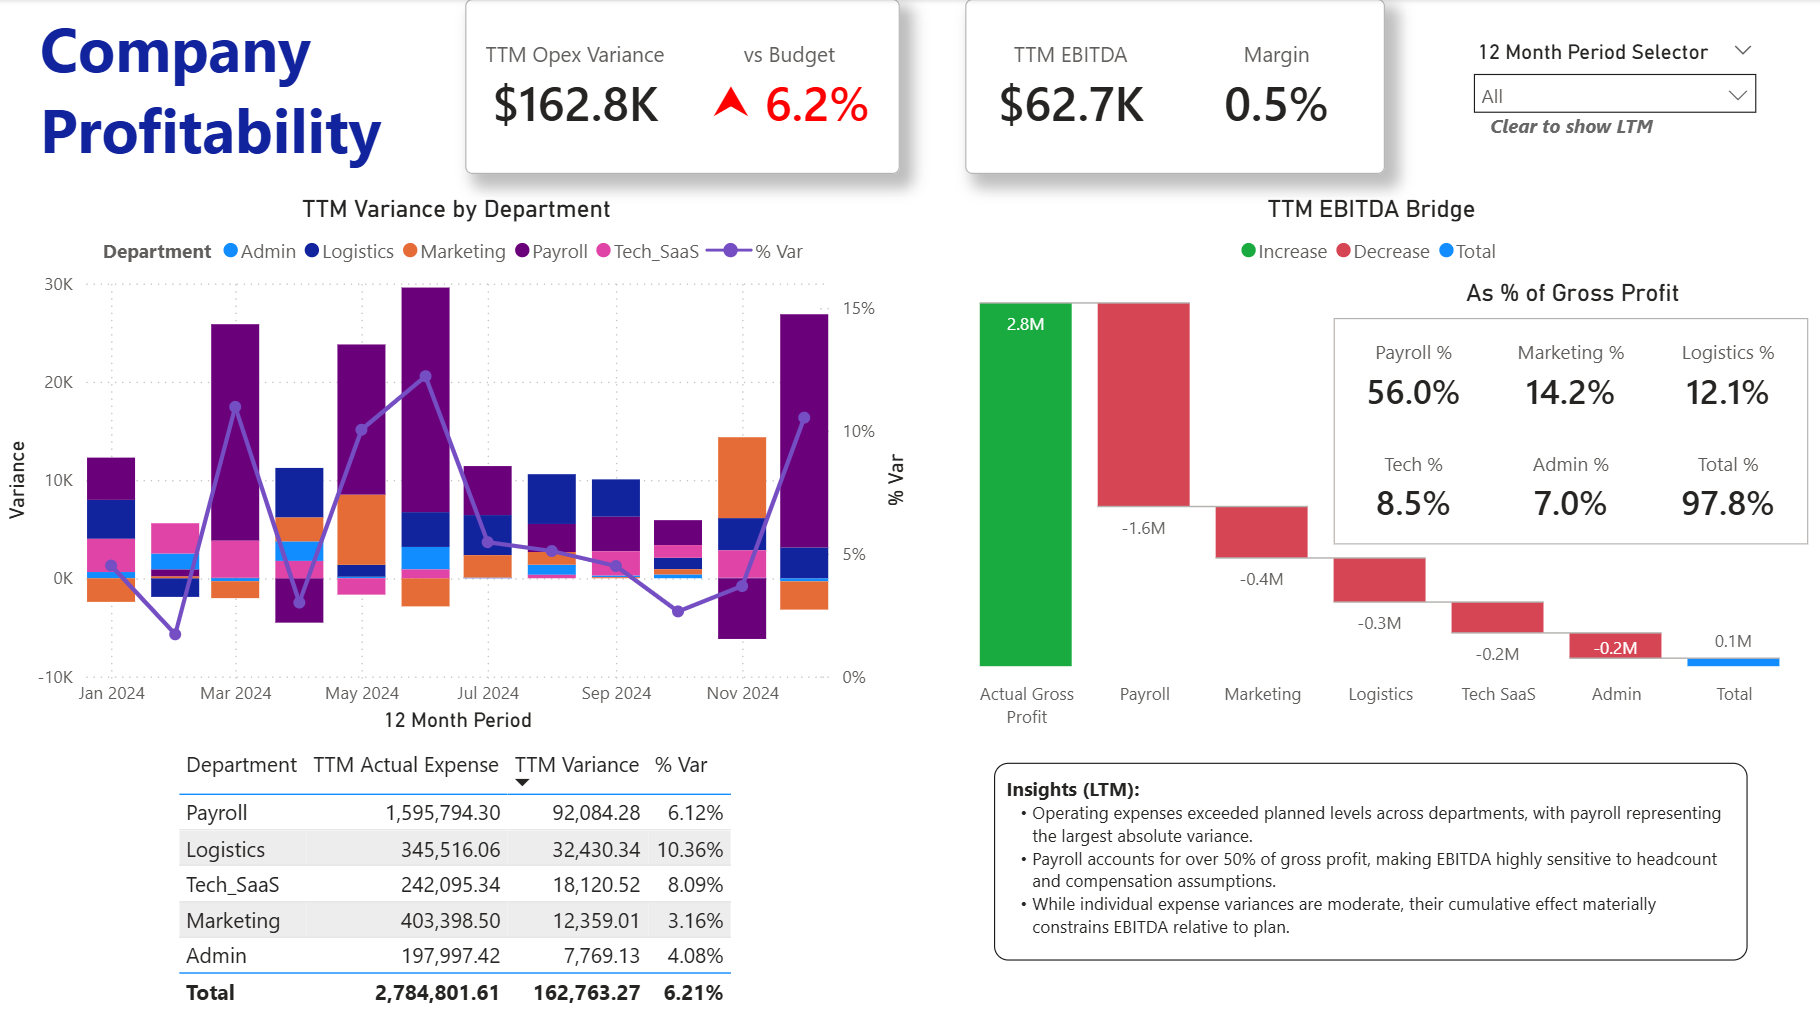

The dashboard page shown, as its layout file describes it:
{"tool":"powerbi","page":{"name":"Profitability","canvas":[1280,720],"ordinal":3},"visuals":[{"type":"textbox","box":[23.6,0,261.5,122.4],"z":0},{"type":"waterfallChart","title":"TTM EBITDA Bridge","fields":{"Category":["EBITDA_Waterfall_Axis.Step"],"Y":["EBITDA_Waterfall_Axis.EBITDA_Waterfall_Value"]},"box":[640.1,136.4,640.1,381.3],"z":1000},{"type":"slicer","fields":{"Values":["public dim_date.date"]},"box":[1021.7,23.8,217.7,77],"z":2000},{"type":"textbox","box":[1031.3,79.7,138.2,25.4],"z":3000},{"type":"cardVisual","fields":{"Data":["public fact_opex.Payroll %","public fact_opex.Marketing %","public fact_opex.Logistics %","public fact_opex.Tech %","public fact_opex.Admin %","public fact_opex.Act_exp %"]},"box":[921.7,206.4,358.5,193.3],"z":4000},{"type":"textbox","box":[696.1,534.3,527.3,138.2],"z":5000},{"type":"lineStackedColumnComboChart","title":"TTM Variance by Department","fields":{"Series":["public fact_opex.department"],"Y2":["public fact_opex.%_var"],"Category":["public fact_opex.date"],"Y":["public fact_opex.Variance TTM"]},"box":[0,136.4,640.1,381.3],"z":6000},{"type":"textbox","box":[1017.8,190.6,166.1,32.4],"z":7000},{"type":"cardVisual","fields":{"Data":["public vw_financials.Act_EBITDA TTM","public vw_financials.Act_EBITDA_margin TTM"]},"box":[675.9,0,293.8,122.4],"z":8000},{"type":"tableEx","fields":{"Values":["public fact_opex.department","public fact_opex.Act_exp TTM","public fact_opex.Variance TTM","public fact_opex.%_var"]},"box":[119.8,517.7,400.5,195],"z":9000},{"type":"cardVisual","fields":{"Data":["public fact_opex.Variance TTM","public fact_opex.Card %_var"]},"box":[326.2,0,304.3,122.4],"z":10000}]}

Visuals, with their boxes in screenshot pixels (x1, y1, x2, y2), scaled from the page's 1280x720 canvas onto the 1820x1017 screenshot:
textbox: 34,0,405,173
"TTM EBITDA Bridge" waterfallChart: 910,193,1819,731
slicer - public dim_date.date: 1453,34,1762,142
textbox: 1466,113,1663,148
cardVisual - public fact_opex.Payroll % x public fact_opex.Marketing %: 1311,292,1819,565
textbox: 990,755,1740,950
"TTM Variance by Department" lineStackedColumnComboChart: 0,193,910,731
textbox: 1447,269,1683,315
cardVisual - public vw_financials.Act_EBITDA TTM x public vw_financials.Act_EBITDA_margin TTM: 961,0,1379,173
tableEx - public fact_opex.department x public fact_opex.Act_exp TTM: 170,731,740,1007
cardVisual - public fact_opex.Variance TTM x public fact_opex.Card %_var: 464,0,896,173
